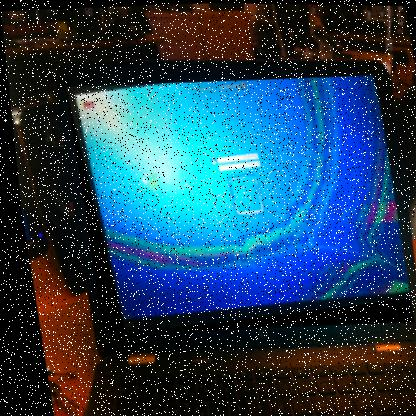fade: (62, 70, 409, 338)
